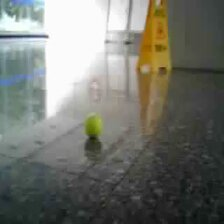tennis: (83, 113, 101, 136)
